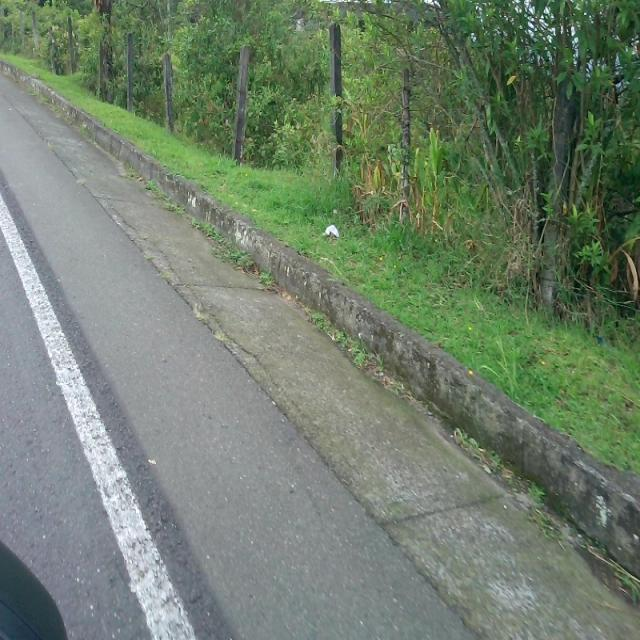DITCH: (1, 47, 638, 638), (1, 54, 638, 638), (1, 61, 638, 638)
